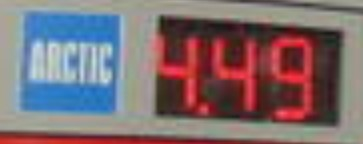digits: (147, 22, 203, 115), (267, 32, 324, 123), (210, 28, 261, 120)
